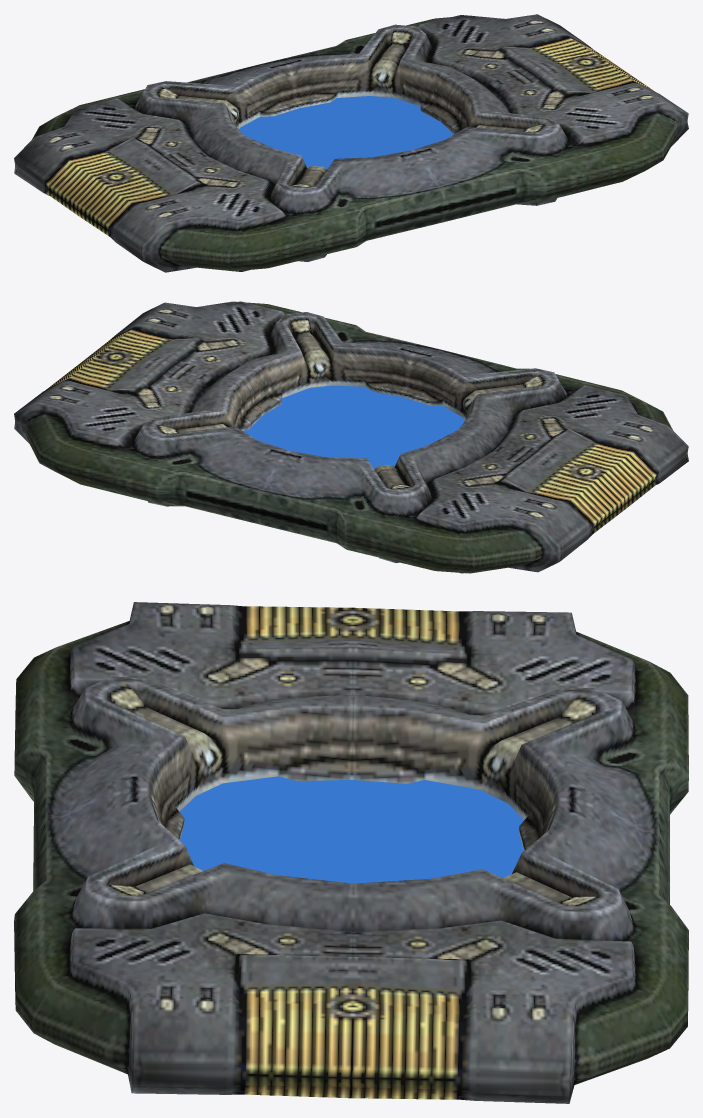
File: chip.fbx
The picture shows the model from 3 angles, top to bottom: view 1: azimuth 30°, elevation 25°; view 2: azimuth 150°, elevation 25°; view 3: azimuth 270°, elevation 25°; orthographic projection. The views are drawn at different scales.
Visible parts, largest first — view 1: Object_3.001, Object_2.002; view 2: Object_3.001, Object_2.002; view 3: Object_3.001, Object_2.002.
Part boxes in pixels (bbox=[...]): Object_3.001: bbox=[14, 14, 688, 272]; Object_2.002: bbox=[239, 96, 454, 168]; Object_3.001: bbox=[14, 301, 688, 573]; Object_2.002: bbox=[243, 385, 464, 468]; Object_3.001: bbox=[14, 602, 688, 1103]; Object_2.002: bbox=[179, 776, 524, 883].
Size of the model in its own units: 763 by 102 by 483.
2 materials, 1 textured.
